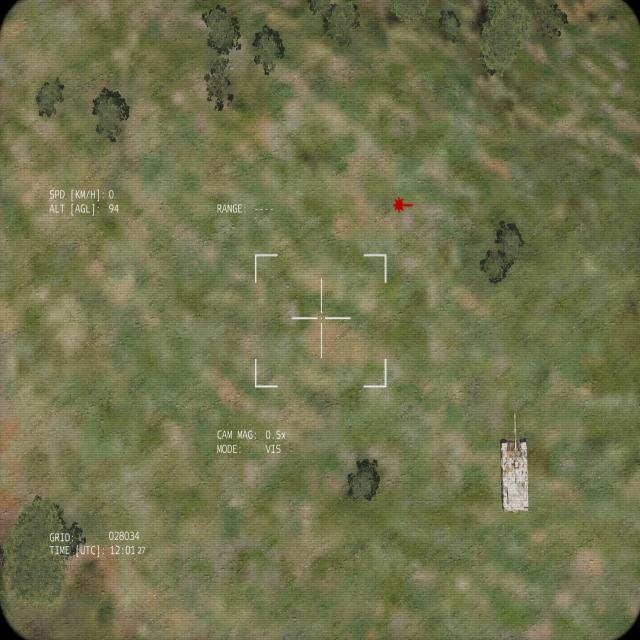tank: (499, 412, 530, 514)
